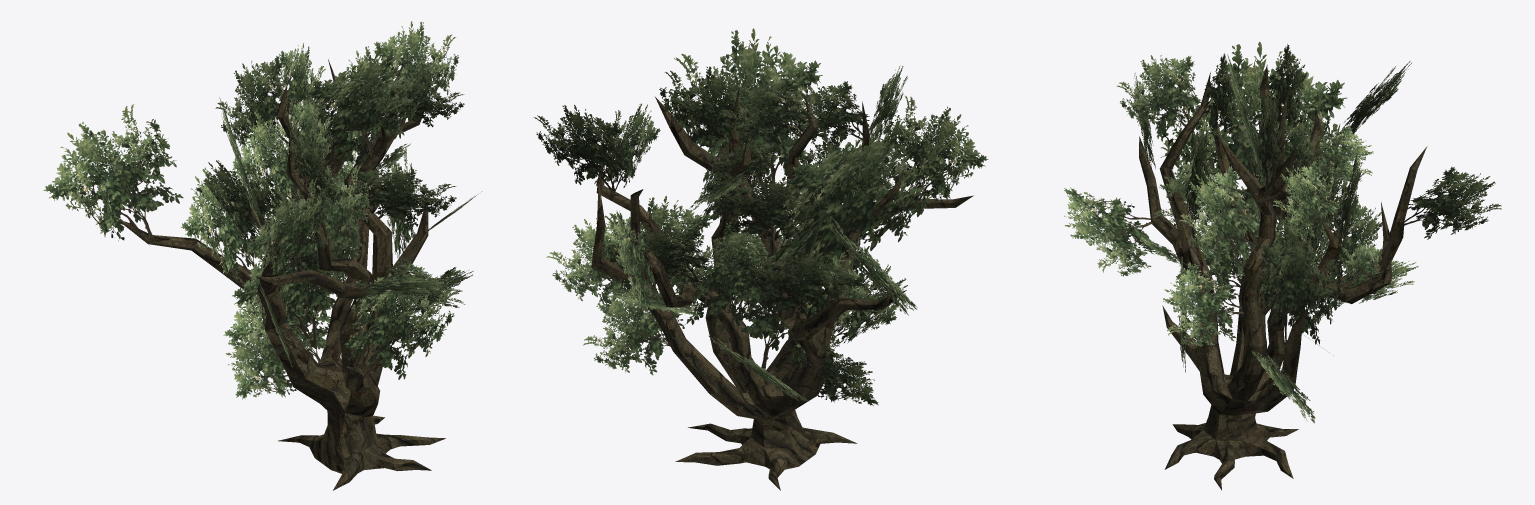
File: Tree.Healthy_1.fbx
3 renders of one model, left to right at view 1: azimuth 30°, elevation 25°; view 2: azimuth 150°, elevation 25°; view 3: azimuth 270°, elevation 25°, orthographic. The views are drawn at different scales.
Parts seen in each view (by area): view 1: Tree.Healthy_1; view 2: Tree.Healthy_1; view 3: Tree.Healthy_1.
Part boxes in pixels (x1,y1,x2,y2): Tree.Healthy_1: (43,21,482,490); Tree.Healthy_1: (533,28,988,490); Tree.Healthy_1: (1064,41,1501,490).
Size of the model in its own units: 1036 by 989 by 1044.
